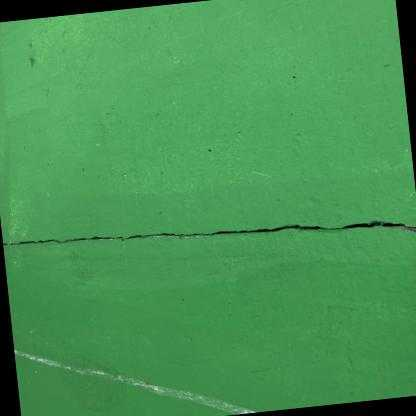crack: (2, 218, 416, 245)
